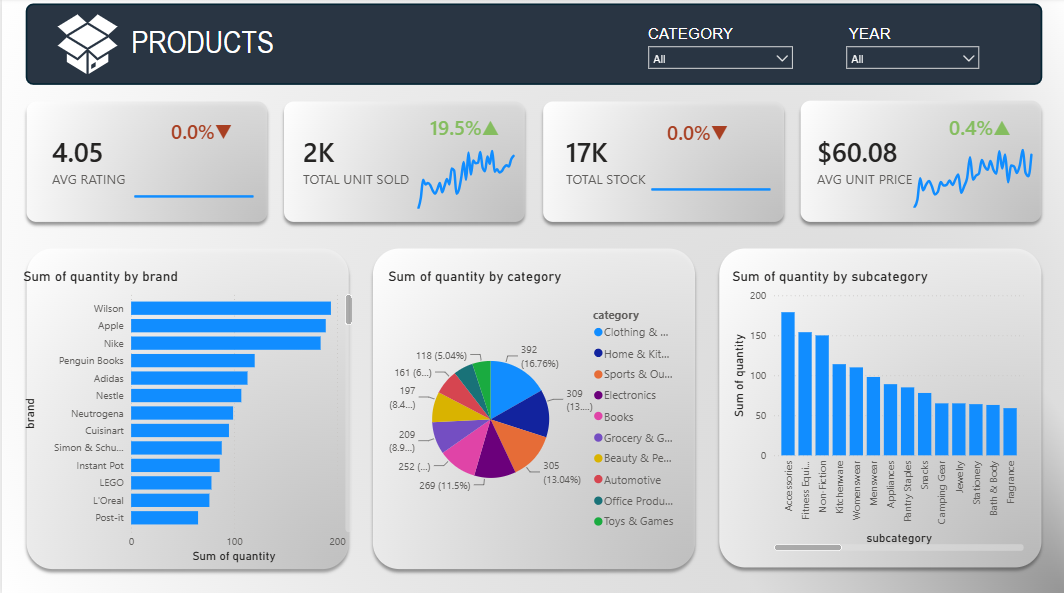

This screenshot's page, from the dashboard's own definition file:
{"tool":"powerbi","page":{"name":"PRODUCTS","canvas":[1280,720],"ordinal":1},"visuals":[{"type":"cardVisual","fields":{"Data":["DAX Measures.AVG UNIT PRICE"]},"box":[952.6,132.7,197.1,126.1],"z":0},{"type":"cardVisual","fields":{"Data":["DAX Measures.% YOY UNIT PRICE"]},"box":[1111.5,111.7,143.2,84.1],"z":1000},{"type":"cardVisual","fields":{"Data":["DAX Measures.TOTAL STOCK"]},"box":[650.4,120.9,161.6,149.8],"z":2000},{"type":"cardVisual","fields":{"Data":["DAX Measures.% YOY TOTAL STOCK"]},"box":[771.2,113,144.5,94.6],"z":3000},{"type":"cardVisual","fields":{"Data":["DAX Measures.AVG RATING"]},"box":[31.5,120.9,161.6,149.8],"z":4000},{"type":"cardVisual","fields":{"Data":["DAX Measures.% YOY AVG RATING"]},"box":[174.7,93.3,159,132.7],"z":5000},{"type":"cardVisual","fields":{"Data":["DAX Measures.TOTAL UNIT SOLD"]},"box":[333.7,120.9,186.6,149.8],"z":8000},{"type":"cardVisual","fields":{"Data":["DAX Measures.% YOY UNIT SOLD"]},"box":[486.1,88,153.7,131.4],"z":9000},{"type":"barChart","fields":{"Category":["products.brand"],"Y":["Sum(purchases.quantity)"]},"box":[21,324.5,406,360],"z":10000},{"type":"pieChart","fields":{"Category":["products.category"],"Y":["Sum(purchases.quantity)"]},"box":[459.9,324.5,362.6,345.5],"z":11000},{"type":"clusteredColumnChart","fields":{"Category":["products.subcategory"],"Y":["Sum(purchases.quantity)"]},"box":[873.7,324.5,361.3,345.5],"z":12000},{"type":"lineChart","fields":{"Category":["purchases.order_date.Variation.Date Hierarchy.Year","purchases.order_date.Variation.Date Hierarchy.Quarter","purchases.order_date.Variation.Date Hierarchy.Month"],"Y":["Sum(purchases.unit_price)"]},"box":[1083.9,168.2,170.8,89.3],"z":13000},{"type":"lineChart","fields":{"Category":["purchases.order_date.Variation.Date Hierarchy.Year","purchases.order_date.Variation.Date Hierarchy.Quarter","purchases.order_date.Variation.Date Hierarchy.Month"],"Y":["Sum(products.stock_quantity)"]},"box":[768.6,181.3,170.8,89.3],"z":14000},{"type":"lineChart","fields":{"Category":["purchases.order_date.Variation.Date Hierarchy.Year","purchases.order_date.Variation.Date Hierarchy.Quarter","purchases.order_date.Variation.Date Hierarchy.Month"],"Y":["Sum(purchases.quantity)"]},"box":[486.1,169.5,144.5,89.3],"z":15000},{"type":"lineChart","fields":{"Category":["purchases.order_date.Variation.Date Hierarchy.Year","purchases.order_date.Variation.Date Hierarchy.Quarter","purchases.order_date.Variation.Date Hierarchy.Month"],"Y":["Sum(products.rating_avg)"]},"box":[145.8,190.5,170.8,89.3],"z":16000},{"type":"slicer","fields":{"Values":["products.category"]},"box":[768,48.2,194.1,45.4],"z":16001},{"type":"slicer","fields":{"Values":["purchases.order_date.Variation.Date Hierarchy.Year"]},"box":[1006.1,48.2,180.3,49.5],"z":16002}]}

Visuals, with their boxes in screenshot pixels (x1, y1, x2, y2), scaled from the page's 1280x720 canvas onto the 1064x593 screenshot:
cardVisual - DAX Measures.AVG UNIT PRICE: 792:109:956:213
cardVisual - DAX Measures.% YOY UNIT PRICE: 924:92:1043:161
cardVisual - DAX Measures.TOTAL STOCK: 541:100:675:223
cardVisual - DAX Measures.% YOY TOTAL STOCK: 641:93:761:171
cardVisual - DAX Measures.AVG RATING: 26:100:161:223
cardVisual - DAX Measures.% YOY AVG RATING: 145:77:277:186
cardVisual - DAX Measures.TOTAL UNIT SOLD: 277:100:432:223
cardVisual - DAX Measures.% YOY UNIT SOLD: 404:72:532:181
barChart - products.brand x Sum(purchases.quantity): 17:267:355:564
pieChart - products.category x Sum(purchases.quantity): 382:267:684:552
clusteredColumnChart - products.subcategory x Sum(purchases.quantity): 726:267:1027:552
lineChart - purchases.order_date.Variation.Date Hierarchy.Year x purchases.order_date.Variation.Date Hierarchy.Quarter: 901:139:1043:212
lineChart - purchases.order_date.Variation.Date Hierarchy.Year x purchases.order_date.Variation.Date Hierarchy.Quarter: 639:149:781:223
lineChart - purchases.order_date.Variation.Date Hierarchy.Year x purchases.order_date.Variation.Date Hierarchy.Quarter: 404:140:524:213
lineChart - purchases.order_date.Variation.Date Hierarchy.Year x purchases.order_date.Variation.Date Hierarchy.Quarter: 121:157:263:230
slicer - products.category: 638:40:800:77
slicer - purchases.order_date.Variation.Date Hierarchy.Year: 836:40:986:80
